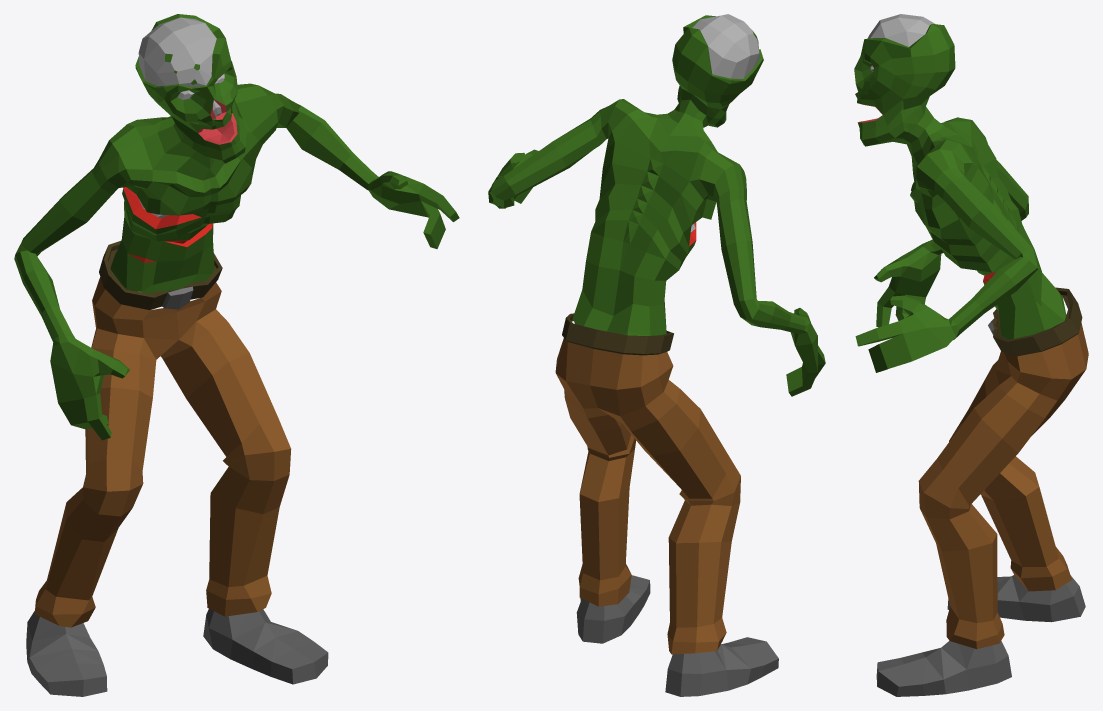
File: Zombie.glb
3 views of the same model, side by side, from view 1: azimuth 30°, elevation 25°; view 2: azimuth 150°, elevation 25°; view 3: azimuth 270°, elevation 25° (orthographic). The views are drawn at different scales.
Visible parts, largest first — view 1: Zombie_09.001_body.000; view 2: Zombie_09.001_body.000; view 3: Zombie_09.001_body.000.
Boxes of the visible parts, <box> form: Zombie_09.001_body.000: <box>14,14,459,696</box>; Zombie_09.001_body.000: <box>488,14,825,696</box>; Zombie_09.001_body.000: <box>854,14,1088,696</box>.
Size of the model in its own units: 5.16 by 8.94 by 3.07.
